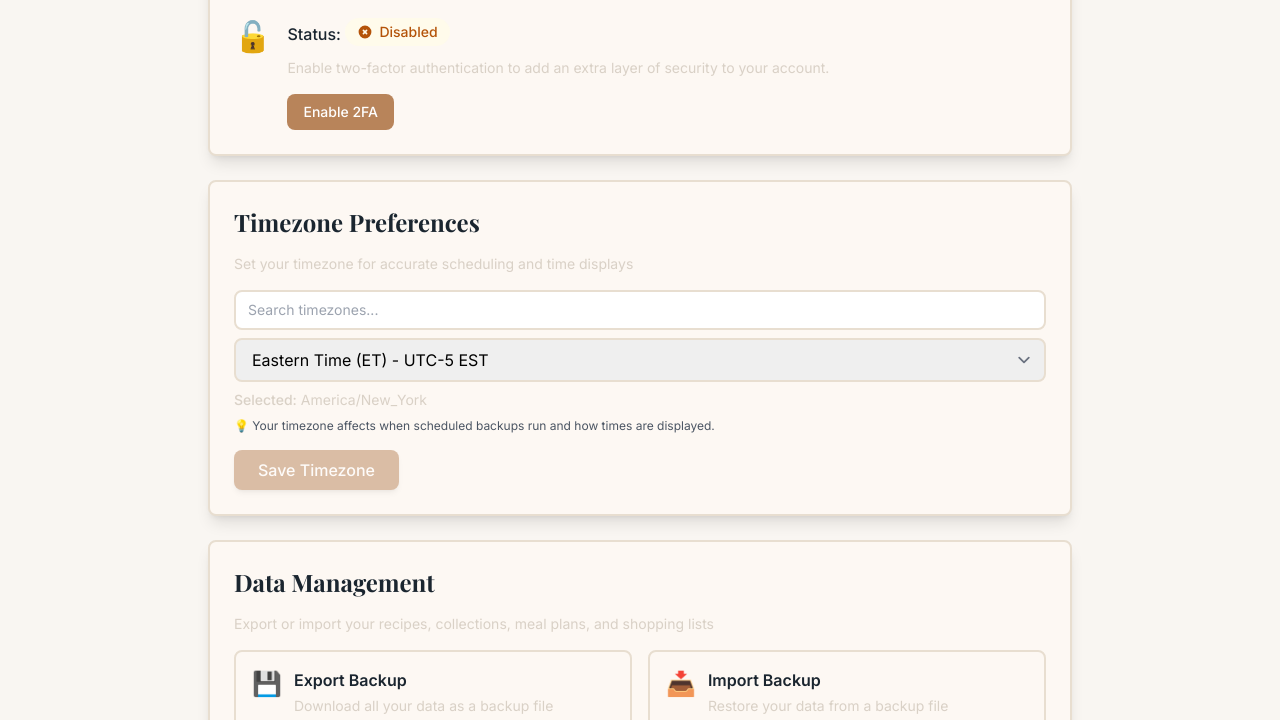
Test case: AccountSettingsPage › enables save timezone button when changed
(page scrolled)
Expected: the heading "Timezone Preferences" is shown, [234,206,480,238]
Select "Central Time (CT) - UTC-6 CST" in the dropdown: coordinates (640, 360) [234,338,1046,382]
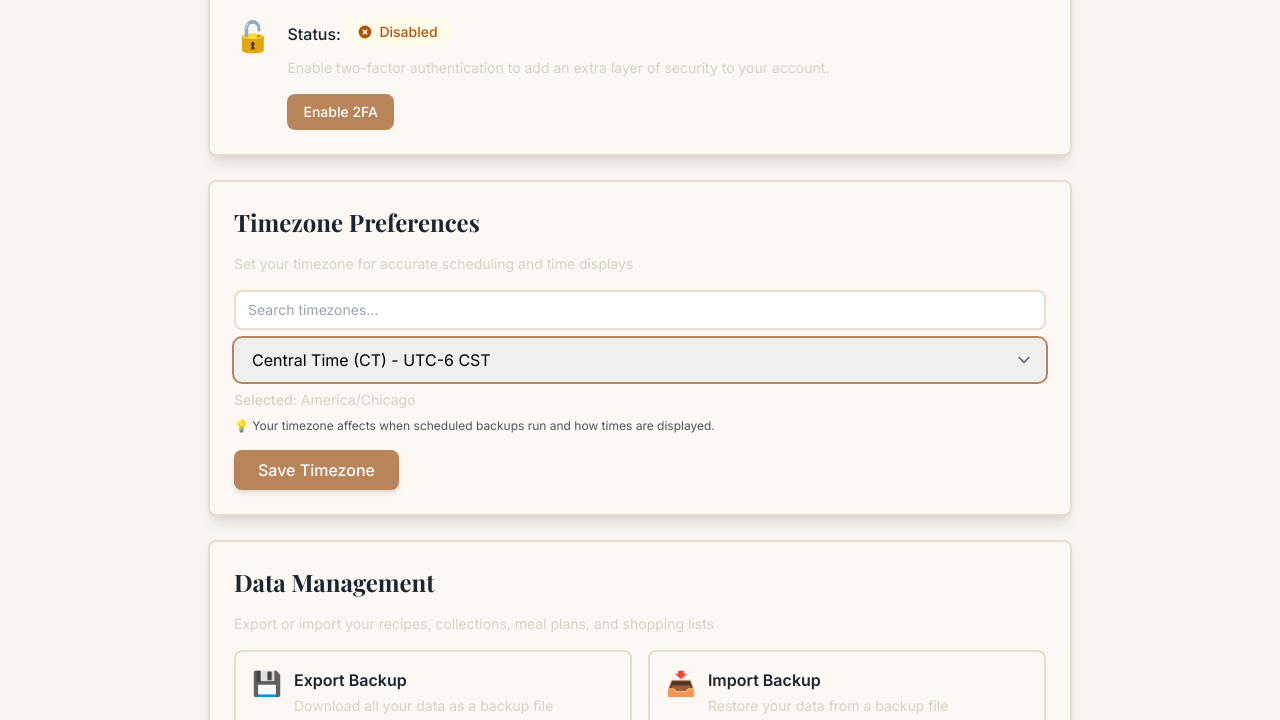
Expected: the button "Save Timezone" is enabled, [234,450,399,490]
